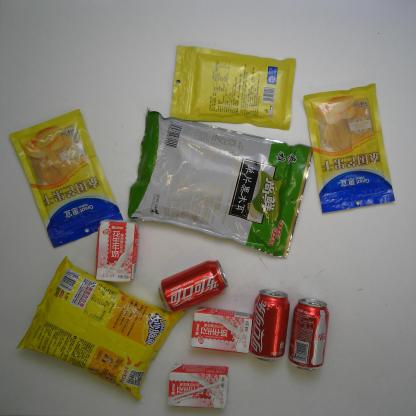Dried Food: (119, 107, 317, 257)
Dried Fruit: (9, 103, 124, 252), (303, 82, 398, 216), (168, 45, 310, 134)
Drink: (152, 257, 230, 314), (284, 300, 338, 372), (249, 286, 293, 360)
Milk: (86, 210, 144, 282), (189, 309, 257, 360), (165, 364, 230, 408)
Puffed Food: (13, 254, 184, 404)
